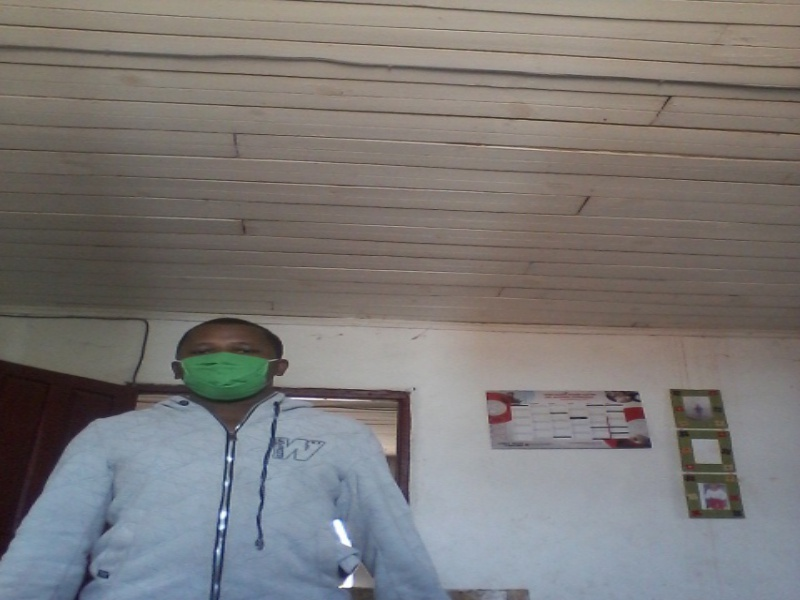ManaoArotava: (168, 318, 297, 414)
